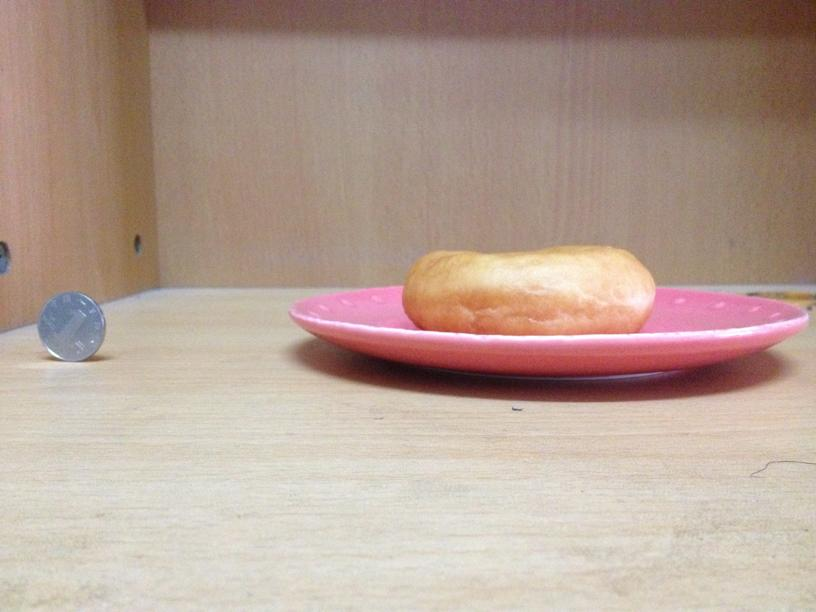coin: (33, 292, 104, 364)
doughnut: (407, 244, 657, 335)
